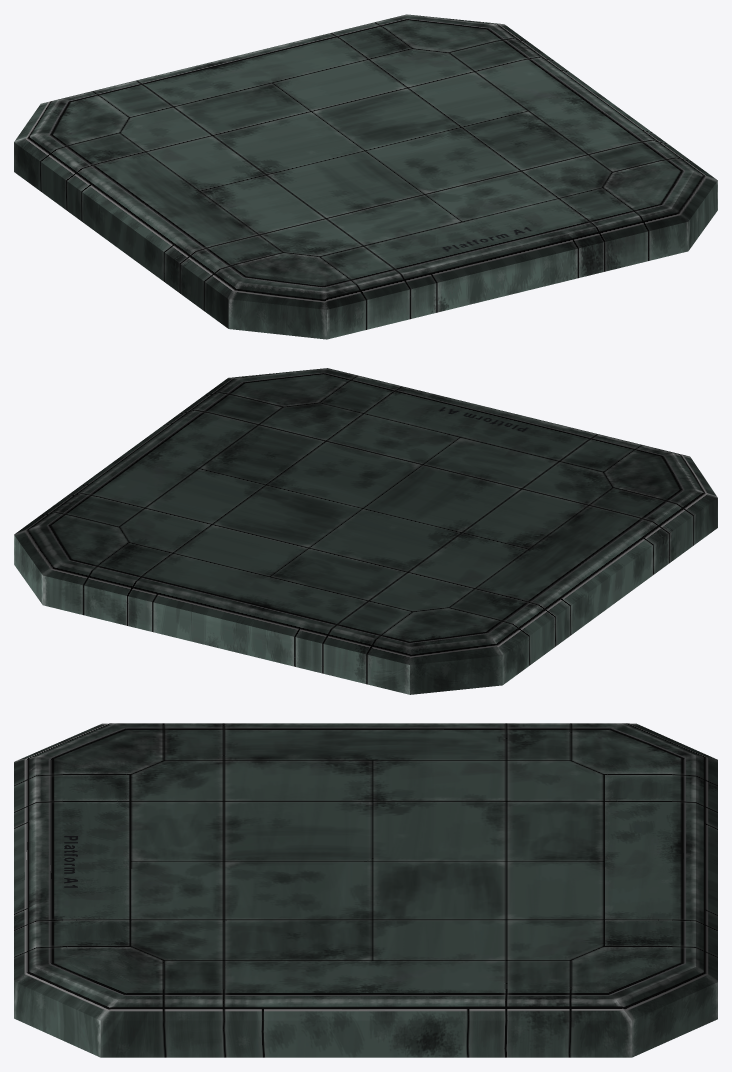
The model's file is plataforma.obj.
3 renders of one model, top to bottom at view 1: azimuth 30°, elevation 25°; view 2: azimuth 150°, elevation 25°; view 3: azimuth 270°, elevation 25°, orthographic. The views are drawn at different scales.
Parts seen in each view (by area): view 1: Platform_A1_tris; view 2: Platform_A1_tris; view 3: Platform_A1_tris.
Part boxes in pixels (x1,y1,x2,y2): Platform_A1_tris: (14,14,717,339); Platform_A1_tris: (14,368,717,694); Platform_A1_tris: (14,723,717,1057).
Bounding box in the file's own units: 7.81 × 0.593 × 7.82.
Materials: 1 (1 with a texture image).
